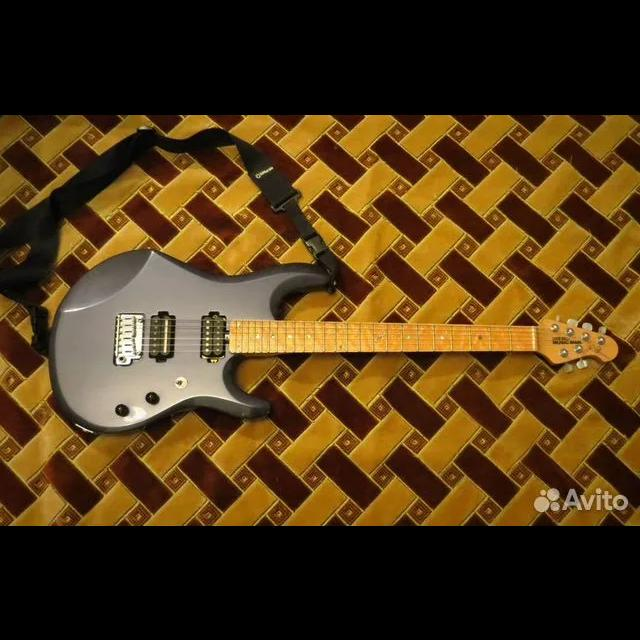Electric-Guitar: (49, 250, 617, 434)
